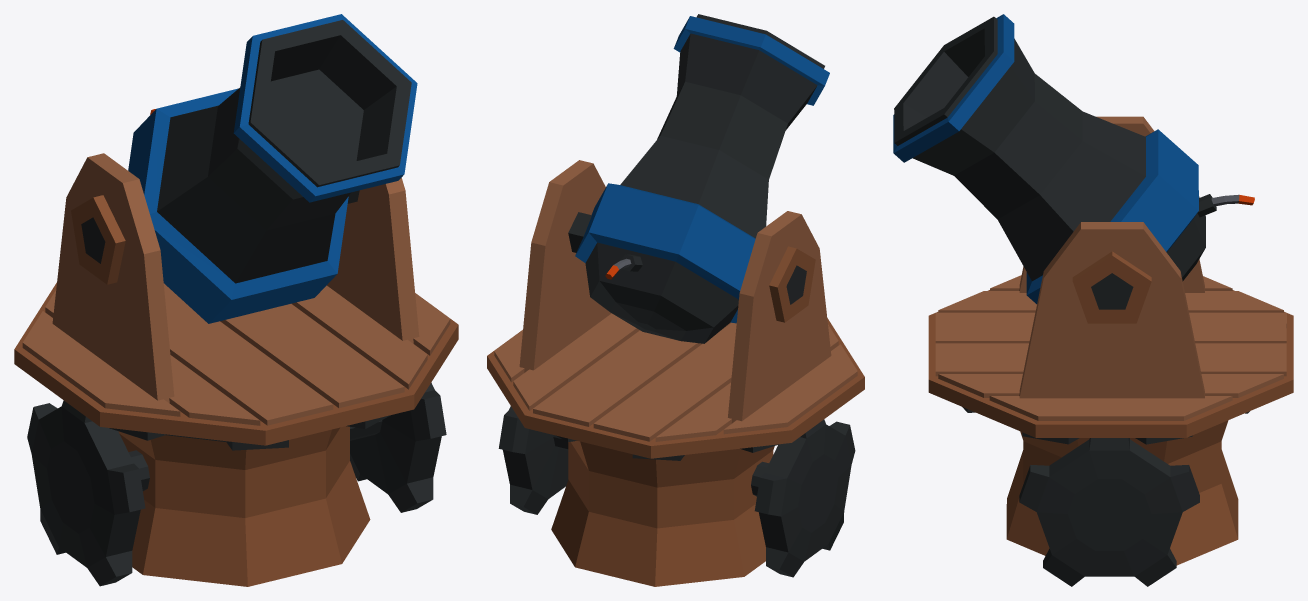
The model's file is Cannon Level 1.FBX.
The picture shows the model from 3 angles, left to right: view 1: azimuth 30°, elevation 25°; view 2: azimuth 150°, elevation 25°; view 3: azimuth 270°, elevation 25°; orthographic projection. The views are drawn at different scales.
Parts seen in each view (by area): view 1: Rifle.001; view 2: Rifle.001; view 3: Rifle.001.
Part boxes in pixels (<box>): Rifle.001: <box>14,14,458,586</box>; Rifle.001: <box>487,14,864,586</box>; Rifle.001: <box>893,14,1293,586</box>.
Size of the model in its own units: 195 by 286 by 213.
Materials: 1 (1 with a texture image).
